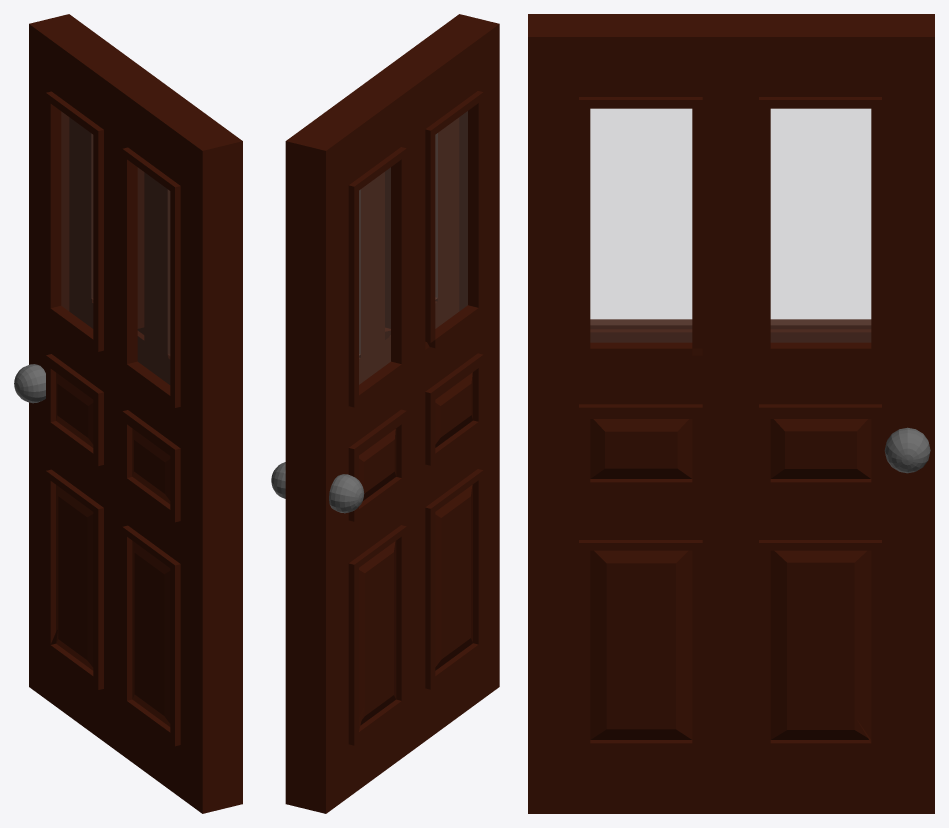
Rendered from Tür.fbx.
The picture shows the model from 3 angles, left to right: view 1: azimuth 30°, elevation 25°; view 2: azimuth 150°, elevation 25°; view 3: azimuth 270°, elevation 25°; orthographic projection. The views are drawn at different scales.
Visible parts, largest first — view 1: Cube; view 2: Cube; view 3: Cube.
Boxes of the visible parts, <box> form: Cube: <box>14,14,242,813</box>; Cube: <box>271,14,499,813</box>; Cube: <box>528,14,934,813</box>.
Bounding box in the file's own units: 27.3 × 197 × 93.61.
